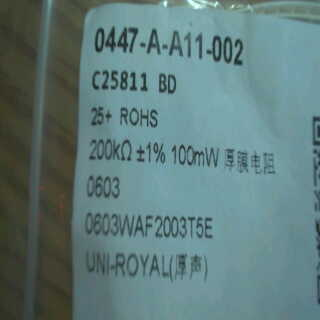200kR: (81, 136, 133, 164)
